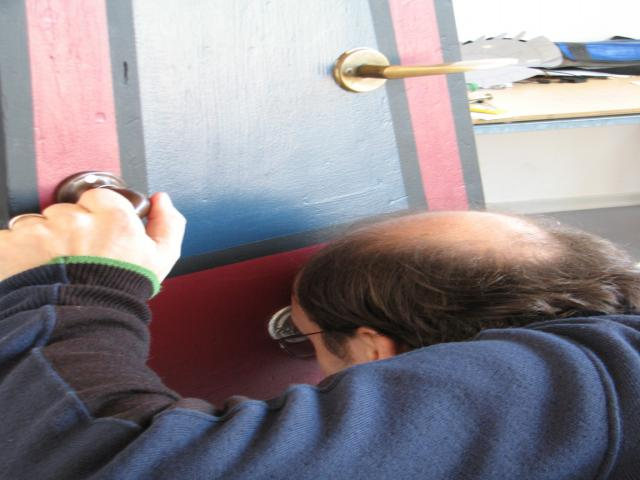Door-handle: (328, 42, 521, 92), (42, 169, 162, 224)
